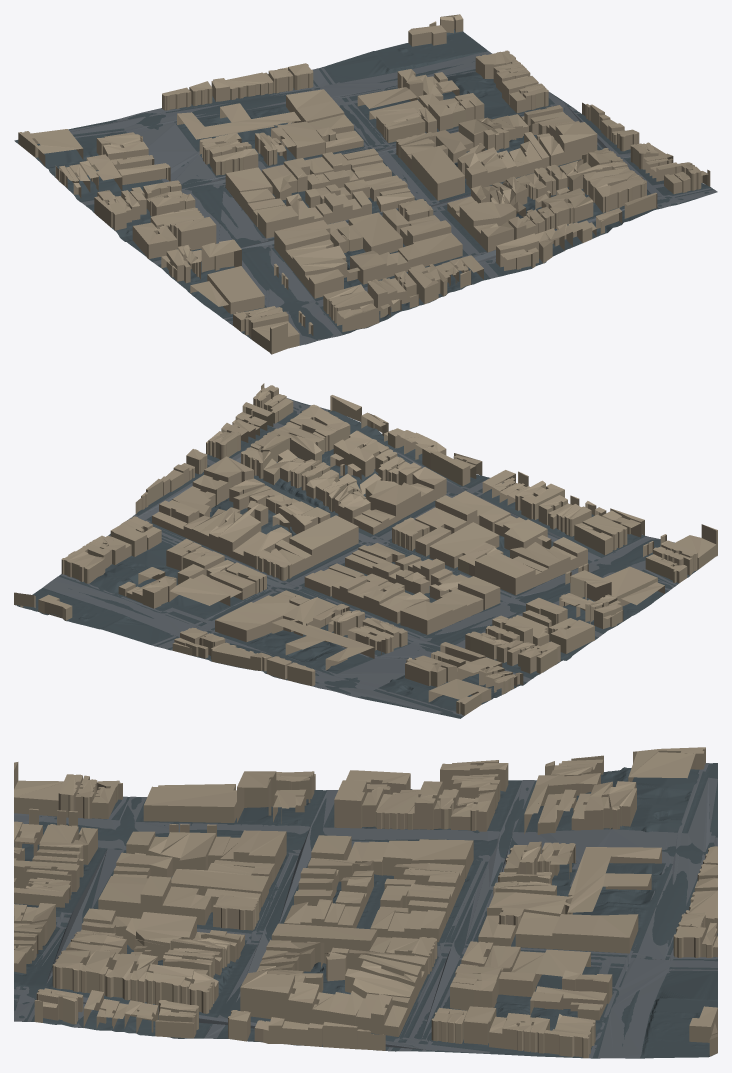
Rendered from epsg26910-1434-10894.lod0.glb.
3 views of the same model, one above another, from view 1: azimuth 30°, elevation 25°; view 2: azimuth 150°, elevation 25°; view 3: azimuth 270°, elevation 25° (orthographic). The views are drawn at different scales.
Parts seen in each view (by area): view 1: epsg26910-1434-10894-lod0; view 2: epsg26910-1434-10894-lod0; view 3: epsg26910-1434-10894-lod0.
Part boxes in pixels (<box>): epsg26910-1434-10894-lod0: <box>14,14,717,354</box>; epsg26910-1434-10894-lod0: <box>14,383,717,718</box>; epsg26910-1434-10894-lod0: <box>14,747,717,1058</box>.
Bounding box in the file's own units: 384 × 57.59 × 384.
